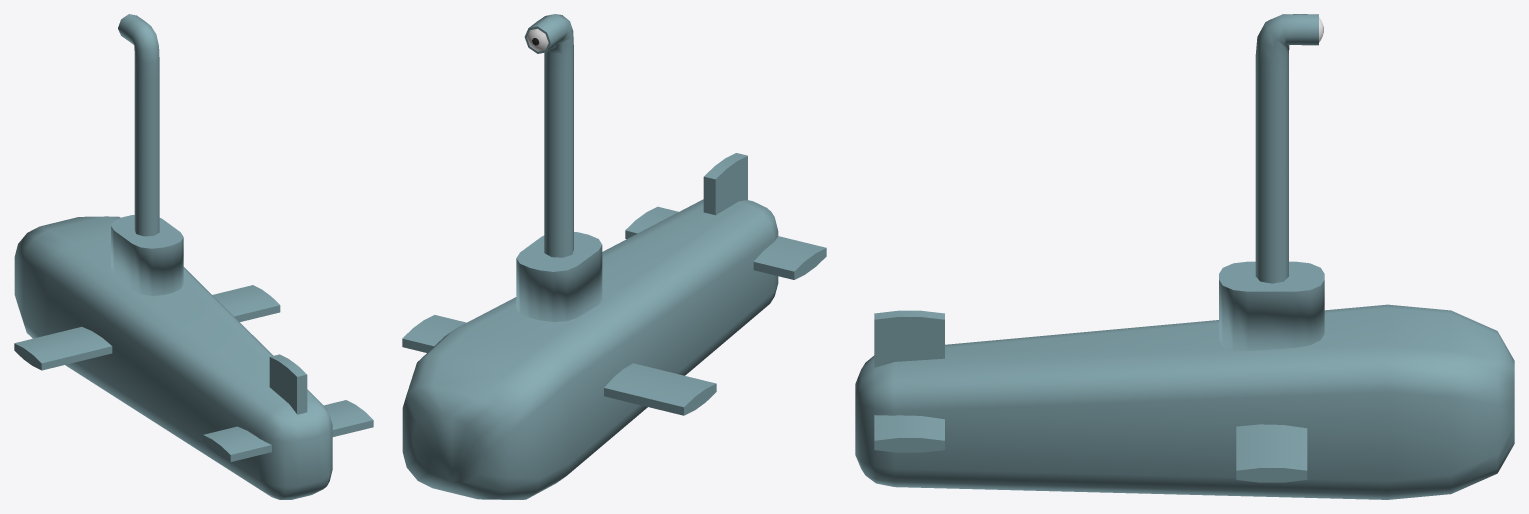
File: submarine.fbx
The picture shows the model from 3 angles, left to right: view 1: azimuth 30°, elevation 25°; view 2: azimuth 150°, elevation 25°; view 3: azimuth 270°, elevation 25°; orthographic projection. The views are drawn at different scales.
Parts seen in each view (by area): view 1: Submarine, Periscope; view 2: Submarine, Periscope; view 3: Submarine, Periscope.
Part boxes in pixels (x1,y1,x2,y2): Submarine: [14, 215, 373, 499]; Periscope: [118, 14, 159, 236]; Submarine: [402, 153, 826, 499]; Periscope: [524, 14, 573, 257]; Submarine: [855, 261, 1514, 499]; Periscope: [1255, 14, 1323, 283].
Bounding box in the file's own units: 3.42 × 6.37 × 4.94.
